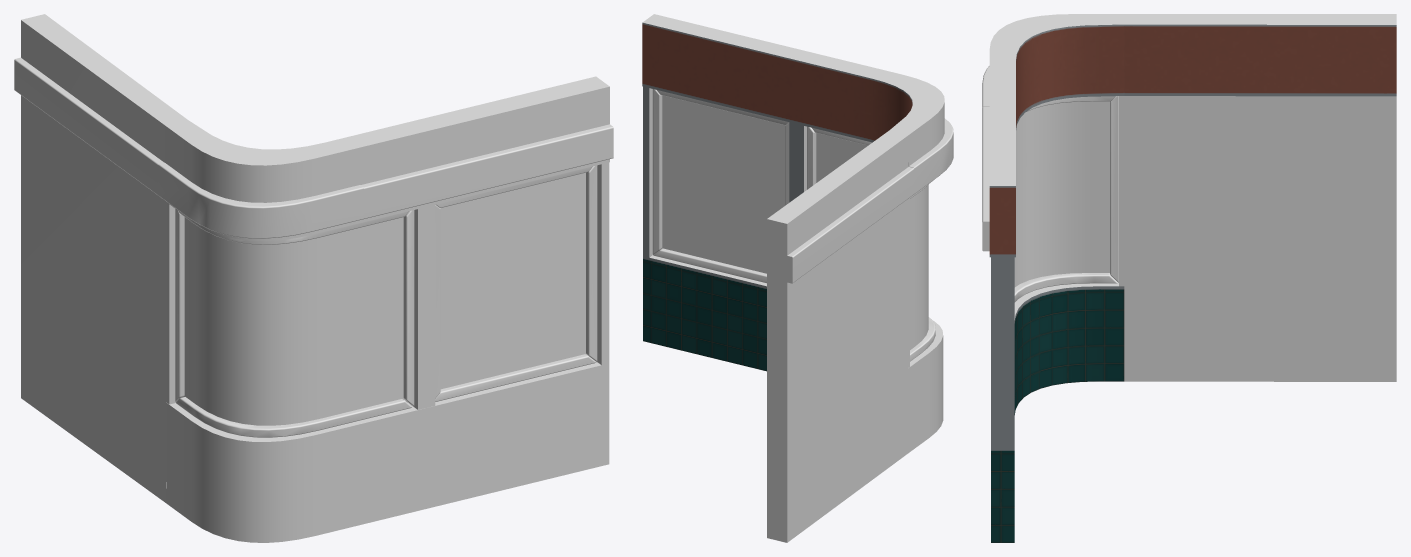
File: SM_Rounded_FR_Corner.fbx
The picture shows the model from 3 angles, left to right: view 1: azimuth 30°, elevation 25°; view 2: azimuth 150°, elevation 25°; view 3: azimuth 270°, elevation 25°; orthographic projection. The views are drawn at different scales.
Visible parts, largest first — view 1: SM_Update_Rounded_FR_Corner_002_v001; view 2: SM_Update_Rounded_FR_Corner_002_v001; view 3: SM_Update_Rounded_FR_Corner_002_v001.
Part boxes in pixels (left/top/right/bottom): SM_Update_Rounded_FR_Corner_002_v001: left=14, top=14, right=613, bottom=542; SM_Update_Rounded_FR_Corner_002_v001: left=642, top=14, right=953, bottom=542; SM_Update_Rounded_FR_Corner_002_v001: left=982, top=14, right=1396, bottom=542.
Size of the model in its own units: 3.15 by 3 by 3.15.
Materials: 5 (1 with a texture image).
